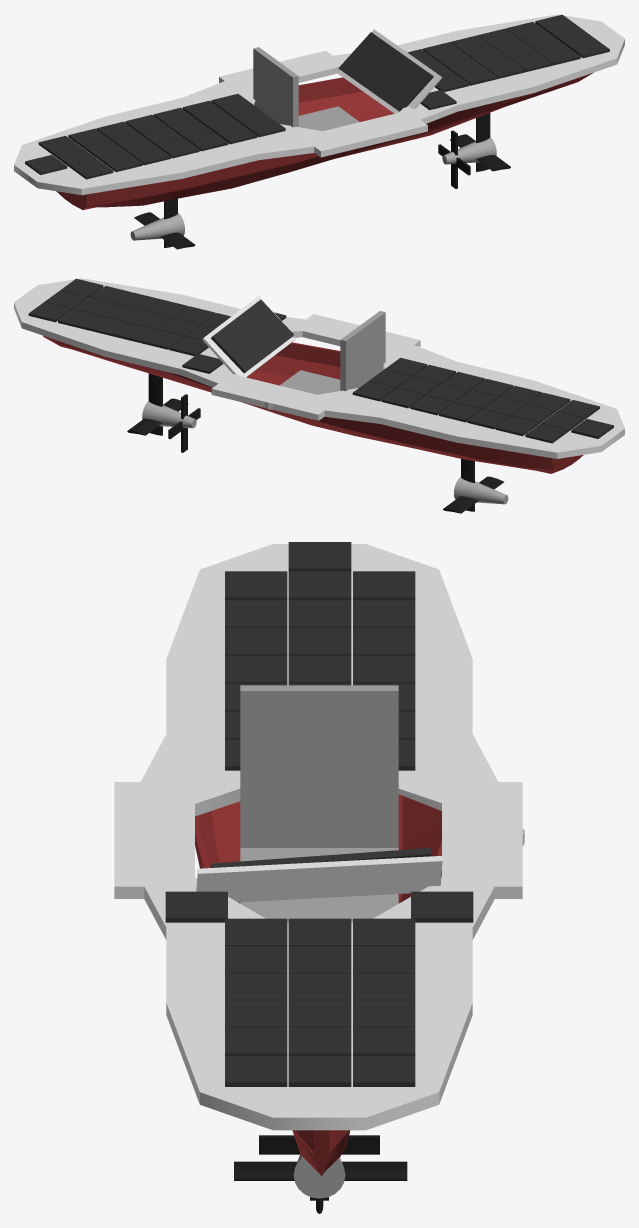
Rendered from basia.fbx.
3 renders of one model, top to bottom at view 1: azimuth 30°, elevation 25°; view 2: azimuth 150°, elevation 25°; view 3: azimuth 270°, elevation 25°, orthographic. The views are drawn at different scales.
Parts seen in each view (by area): view 1: top_part, solar_panels, Hull, Screen, seat, cone2, cone, rotorfront, Front_pylon, back_foil_right, front_foil_right; view 2: top_part, solar_panels, Hull, Screen, seat, cone2, cone, rotorfront, Front_pylon, back_foil_left, front_foil_left, Back_pylon; view 3: top_part, solar_panels, seat, Screen, Hull, cone, rotorfront, front_foil_left, front_foil_right.
Part boxes in pixels (x1=…): top_part: x1=14, y1=14, x2=624, y2=195; solar_panels: x1=25, y1=14, x2=609, y2=179; Hull: x1=56, y1=72, x2=593, y2=209; Screen: x1=337, y1=29, x2=442, y2=113; seat: x1=253, y1=47, x2=359, y2=130; cone2: x1=130, y1=213, x2=184, y2=240; cone: x1=442, y1=137, x2=496, y2=164; rotorfront: x1=438, y1=130, x2=470, y2=188; Front_pylon: x1=476, y1=113, x2=490, y2=171; back_foil_right: x1=160, y1=232, x2=195, y2=249; front_foil_right: x1=476, y1=155, x2=510, y2=171; top_part: x1=14, y1=278, x2=624, y2=458; solar_panels: x1=28, y1=278, x2=613, y2=443; Hull: x1=43, y1=335, x2=583, y2=473; Screen: x1=202, y1=295, x2=296, y2=377; seat: x1=261, y1=311, x2=385, y2=408; cone2: x1=454, y1=477, x2=508, y2=504; cone: x1=142, y1=401, x2=196, y2=428; rotorfront: x1=168, y1=394, x2=200, y2=452; Front_pylon: x1=148, y1=373, x2=162, y2=435; back_foil_left: x1=443, y1=496, x2=478, y2=513; front_foil_left: x1=127, y1=418, x2=162, y2=435; Back_pylon: x1=461, y1=459, x2=474, y2=511; top_part: x1=114, y1=544, x2=524, y2=1130; solar_panels: x1=165, y1=542, x2=473, y2=1086; seat: x1=240, y1=685, x2=398, y2=922; Screen: x1=196, y1=848, x2=442, y2=902; Hull: x1=195, y1=794, x2=441, y2=1175; cone: x1=293, y1=1154, x2=345, y2=1198; rotorfront: x1=259, y1=1135, x2=379, y2=1200; front_foil_left: x1=342, y1=1161, x2=407, y2=1180; front_foil_right: x1=234, y1=1161, x2=296, y2=1180.
Bounding box in the file's own units: 0.00652 × 0.00179 × 0.00197.
